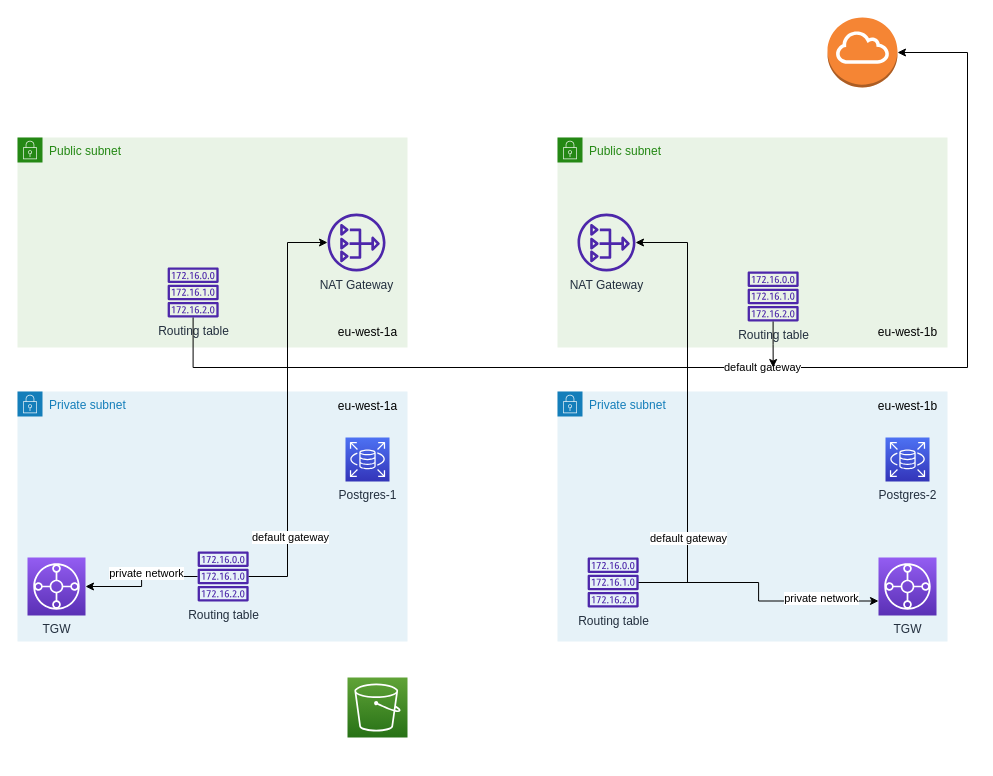
The diagram is 993 pixels wide and 776 high, and some of its shapes have lost their labels. The box of each missing label's shape, as (x1, y1, x2, y2) in pixels:
Internet Gateway: (826, 16, 898, 88)
S3 Files: (346, 676, 408, 738)
